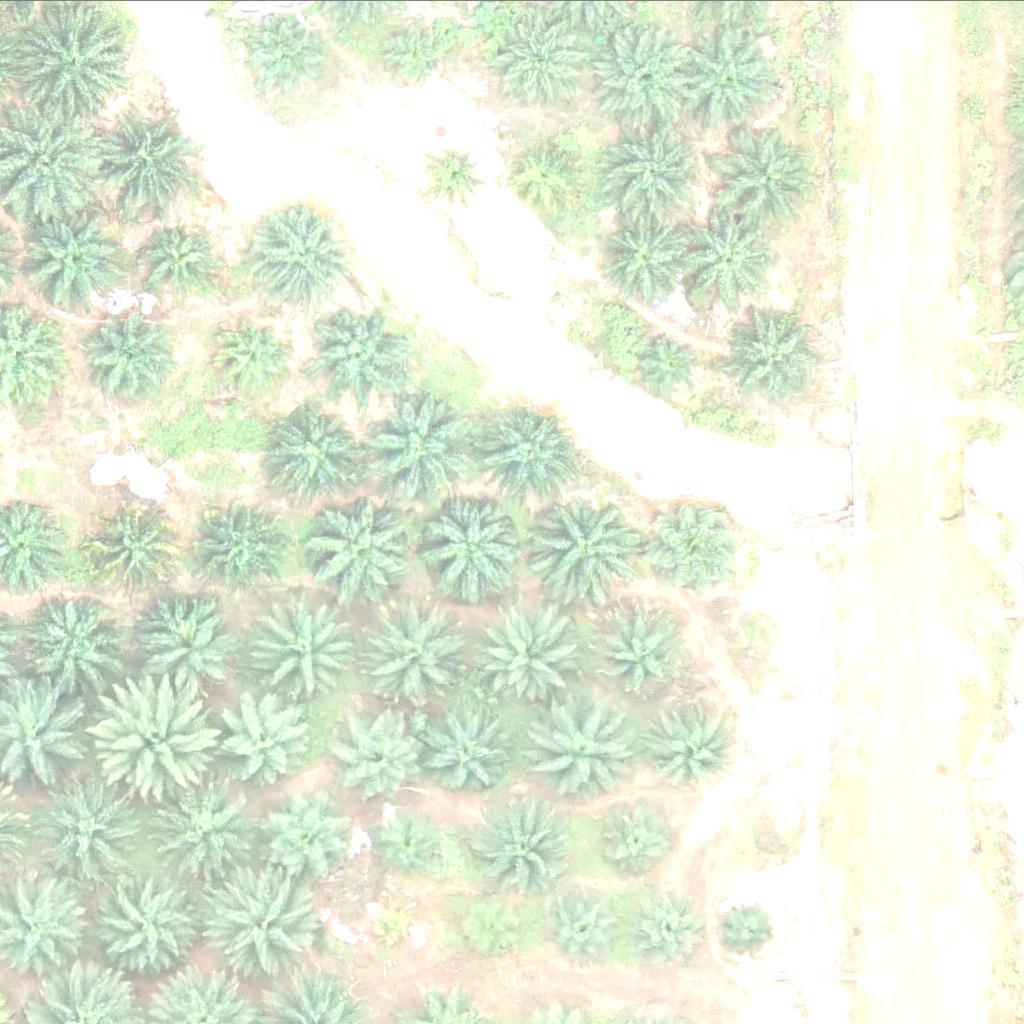Kelapa_Sawit: (93, 670, 219, 795), (17, 8, 131, 121), (586, 19, 699, 132), (674, 22, 787, 135), (713, 120, 826, 233), (359, 391, 472, 504), (303, 490, 416, 603), (414, 486, 527, 599), (31, 774, 144, 887), (86, 867, 199, 980), (526, 488, 639, 600), (204, 870, 317, 982), (22, 213, 123, 313), (608, 122, 709, 222), (599, 207, 700, 307), (480, 405, 581, 505), (725, 305, 826, 405), (653, 497, 754, 597), (23, 586, 124, 686), (260, 600, 361, 700), (372, 605, 473, 705), (480, 609, 581, 709), (152, 783, 253, 883), (253, 781, 354, 881), (467, 790, 568, 890), (97, 115, 197, 215), (257, 205, 357, 305), (490, 7, 590, 107), (679, 212, 779, 312), (310, 299, 410, 399), (130, 601, 230, 701), (532, 698, 632, 798), (244, 14, 332, 102), (82, 317, 170, 405), (277, 406, 365, 494), (88, 506, 176, 594), (340, 713, 428, 801), (623, 888, 711, 976), (427, 711, 516, 798), (196, 504, 284, 591), (598, 604, 686, 691), (647, 702, 735, 789), (220, 696, 308, 783), (542, 879, 630, 966), (373, 807, 449, 882), (213, 318, 289, 393), (460, 888, 536, 963), (595, 800, 670, 875), (139, 223, 214, 298), (375, 15, 450, 90), (513, 139, 588, 214), (637, 324, 712, 399), (426, 142, 489, 205), (717, 897, 780, 959), (361, 894, 424, 956)
